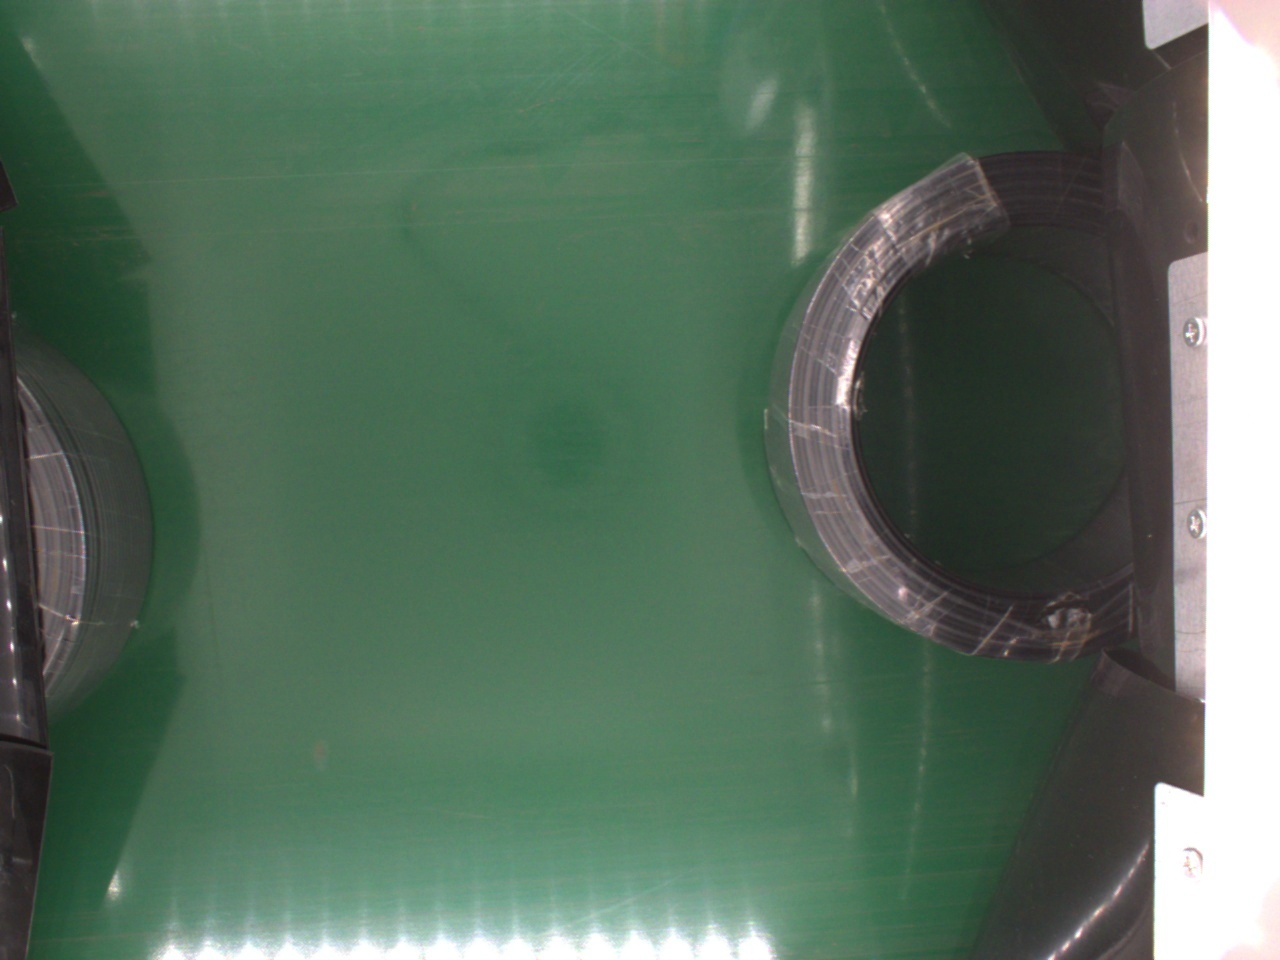black: (775, 150, 1154, 674), (8, 322, 158, 700)
